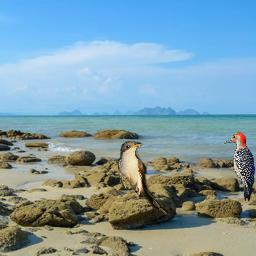Cuckoo: (117, 141, 169, 217)
Woodpecker: (224, 132, 255, 201)
